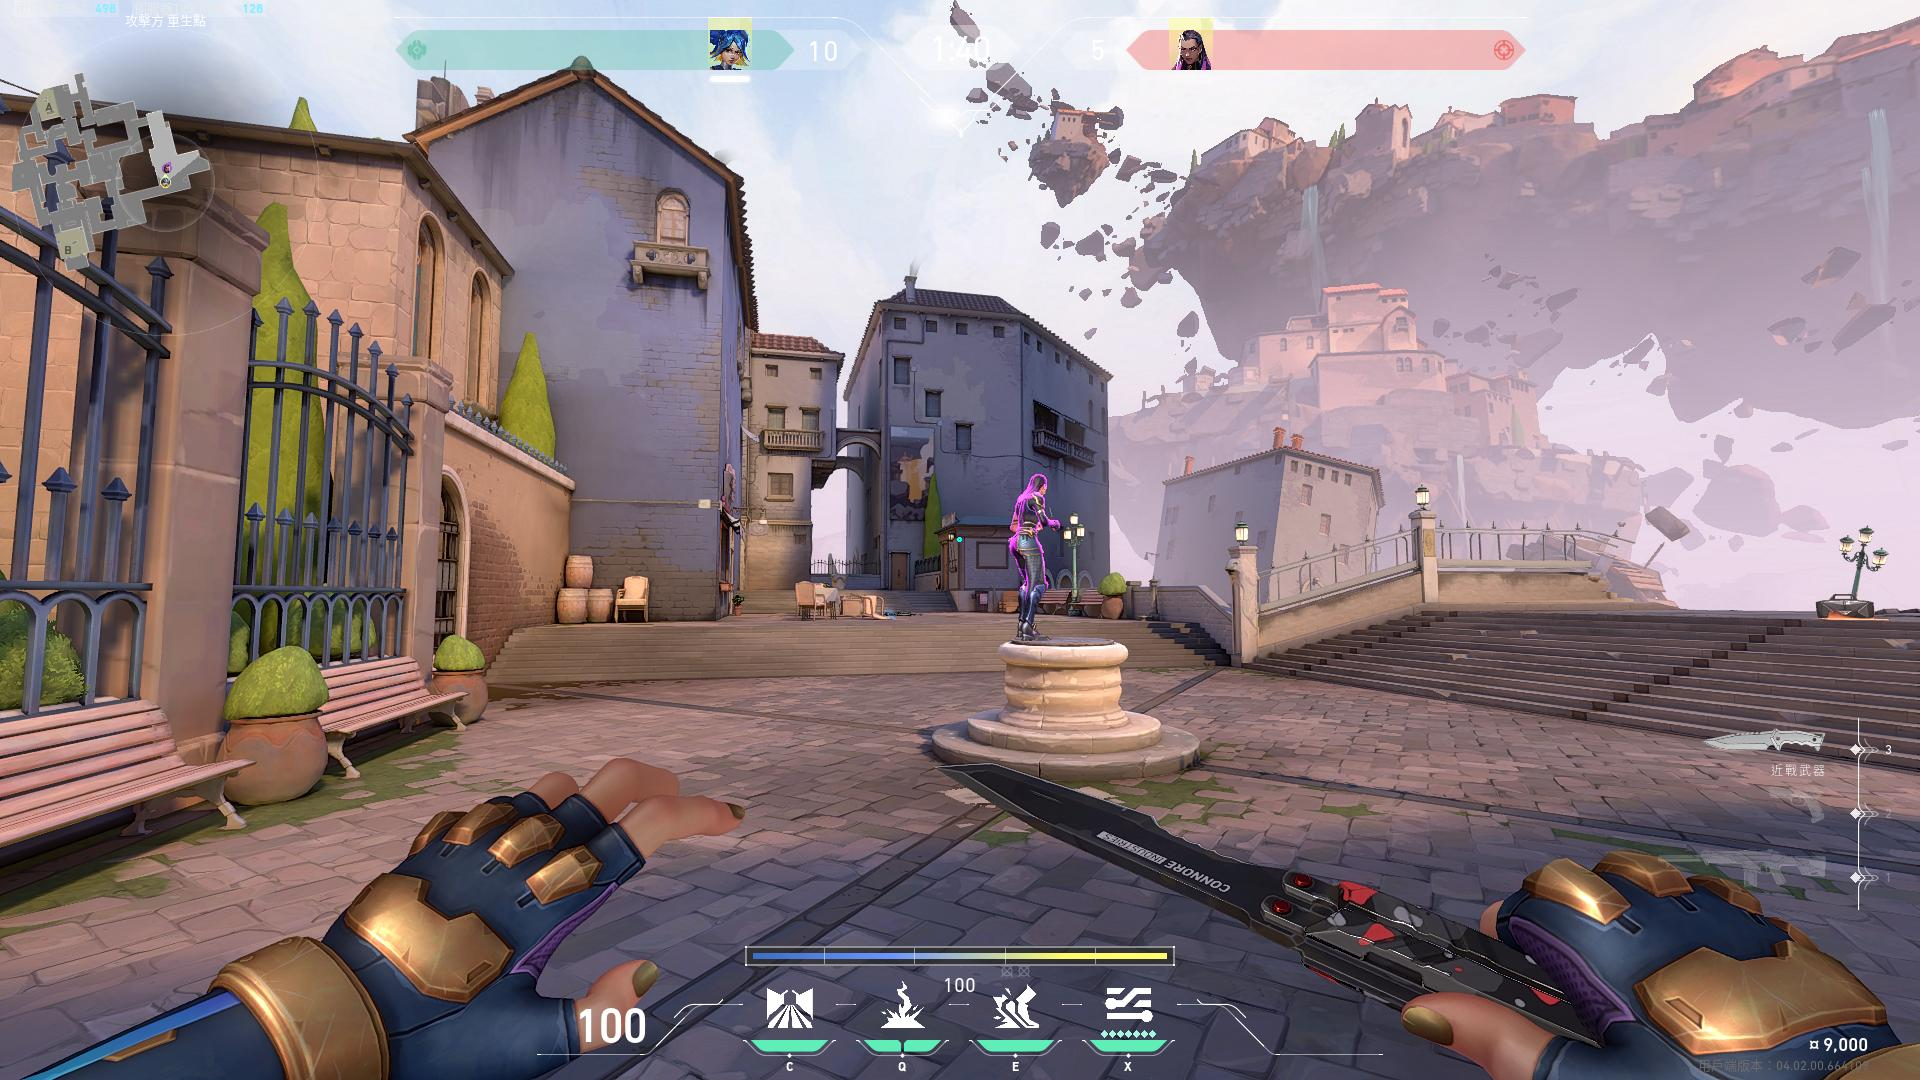enemyBody: (1019, 495, 1040, 534)
enemyHead: (1035, 473, 1046, 489)
